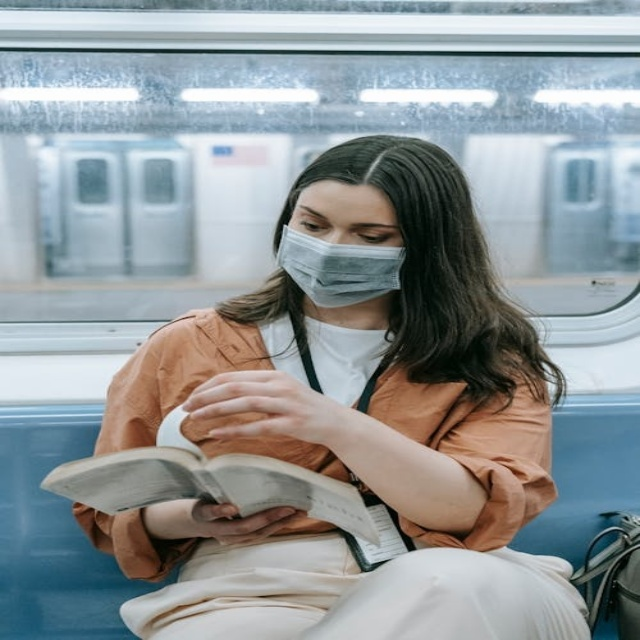Mascara: (277, 224, 410, 306)
Sin_gafas: (287, 201, 398, 244)
Sin_guantes: (180, 361, 339, 447), (182, 499, 301, 545)
